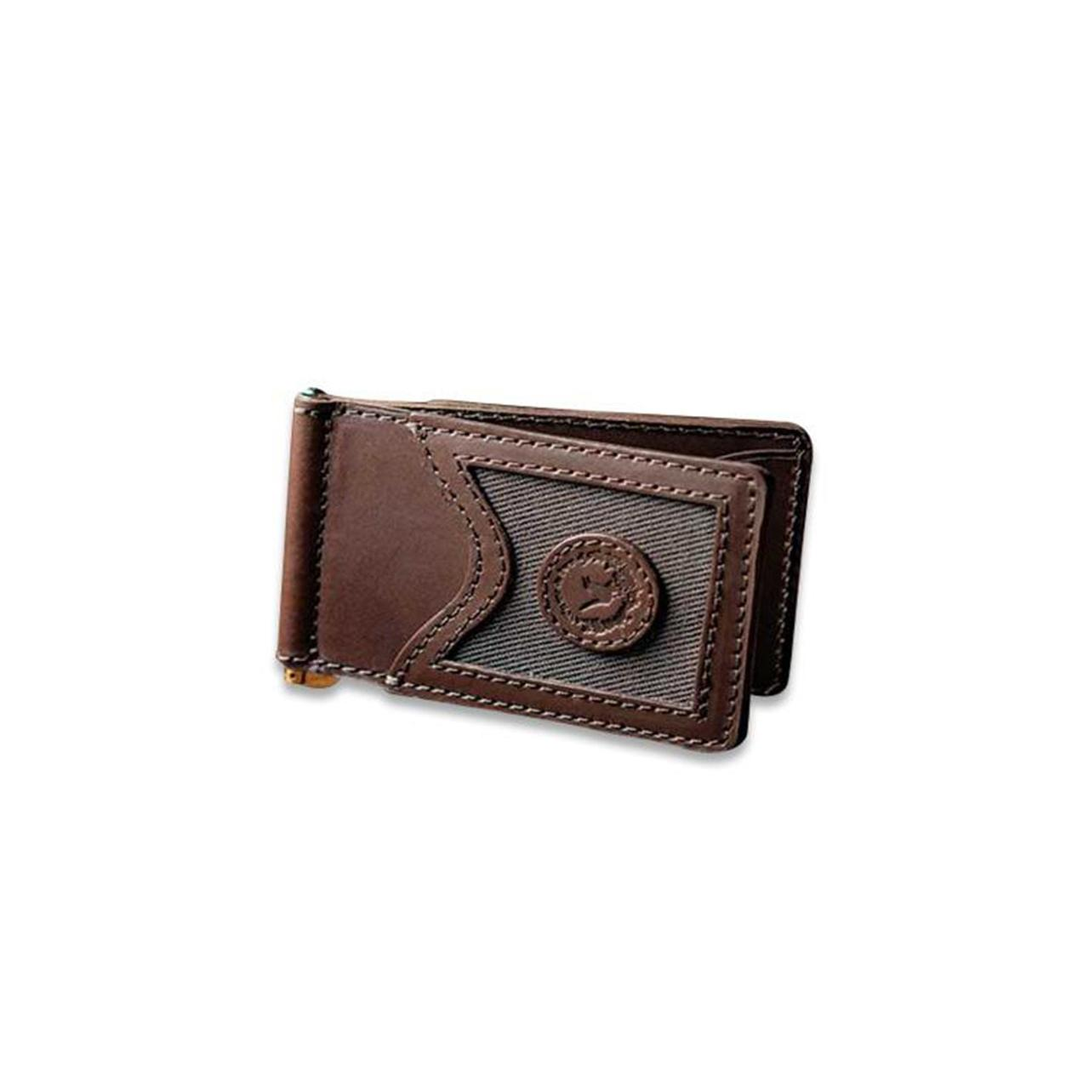wallet: (271, 355, 882, 741)
